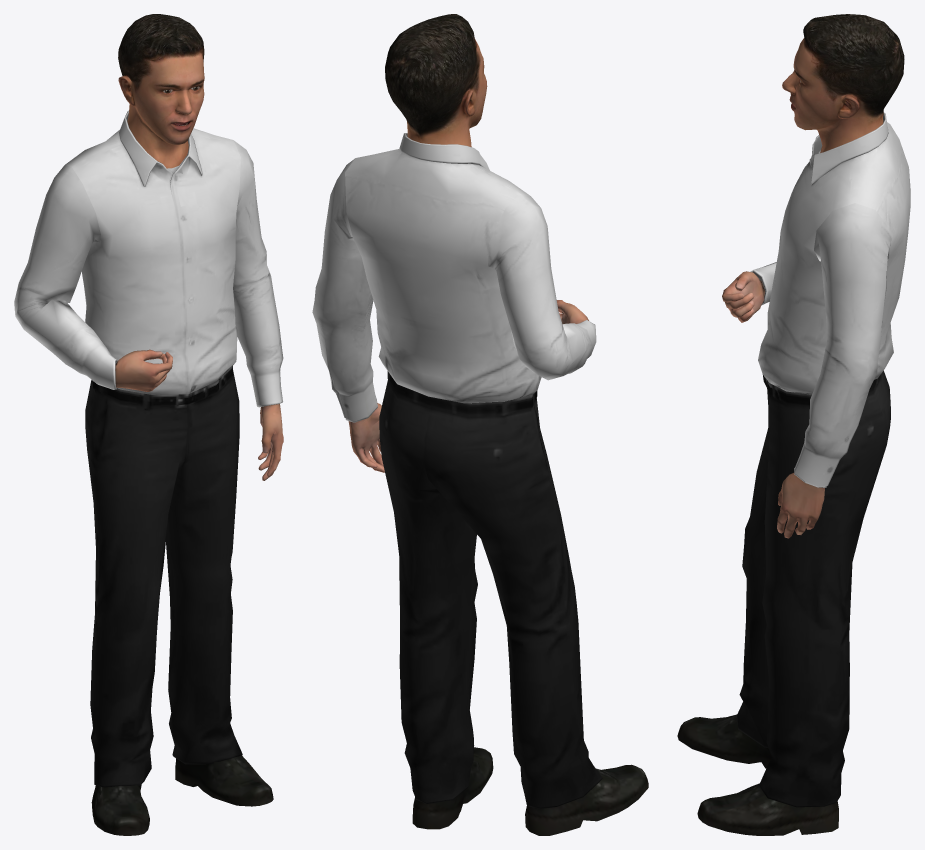
Rendered from commuter.glb.
The picture shows the model from 3 angles, left to right: view 1: azimuth 30°, elevation 25°; view 2: azimuth 150°, elevation 25°; view 3: azimuth 270°, elevation 25°; orthographic projection. The views are drawn at different scales.
Visible parts, largest first — view 1: Outfit_original-baked, Body-baked, Skin_original-baked; view 2: Outfit_original-baked, Body-baked, Skin_original-baked; view 3: Outfit_original-baked, Body-baked, Skin_original-baked.
Part boxes in pixels (left/top/right/bottom): Outfit_original-baked: left=14, top=110, right=283, bottom=835; Body-baked: left=118, top=14, right=204, bottom=168; Skin_original-baked: left=113, top=349, right=283, bottom=480; Outfit_original-baked: left=312, top=133, right=648, bottom=835; Body-baked: left=385, top=14, right=487, bottom=146; Skin_original-baked: left=345, top=300, right=594, bottom=472; Outfit_original-baked: left=677, top=112, right=910, bottom=835; Body-baked: left=782, top=14, right=904, bottom=152; Skin_original-baked: left=722, top=269, right=827, bottom=538.
Bounding box in the file's own units: 0.6075 × 1.82 × 0.481.
2 materials, 2 textured.
